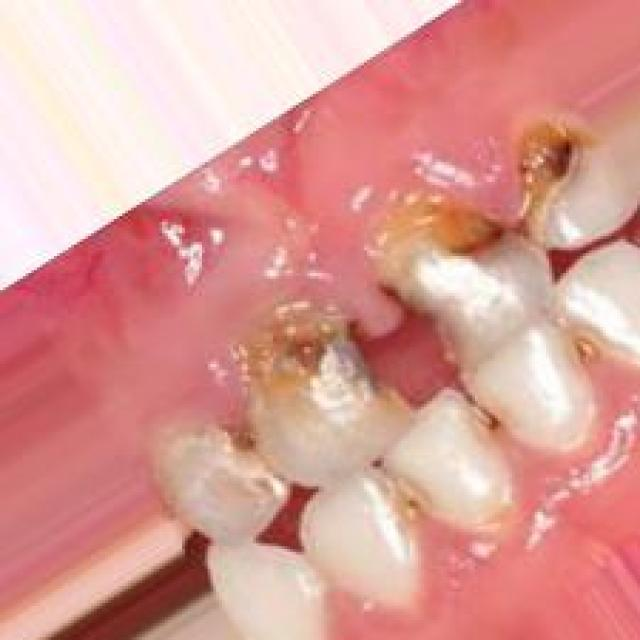caries: (225, 300, 398, 447), (374, 196, 529, 354), (484, 111, 603, 247)
